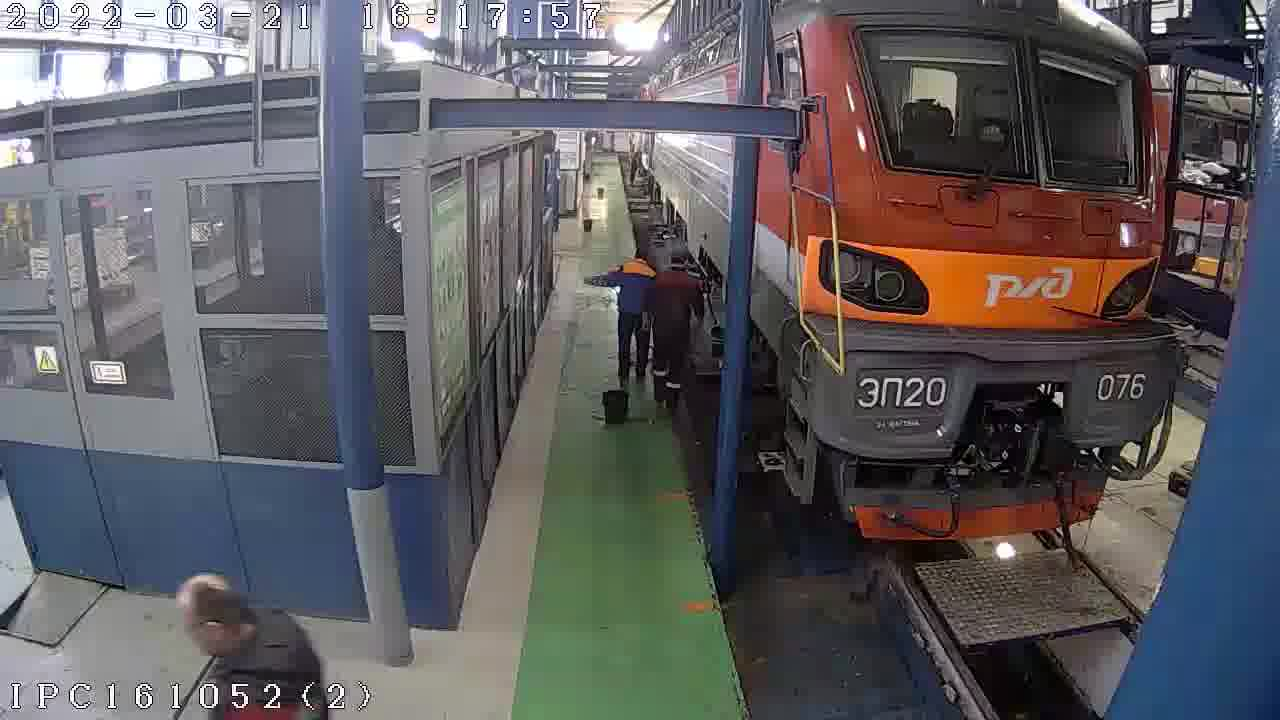person: (153, 544, 349, 720), (634, 236, 719, 417), (584, 237, 661, 382), (622, 149, 639, 190)
worker: (639, 0, 1248, 543)
